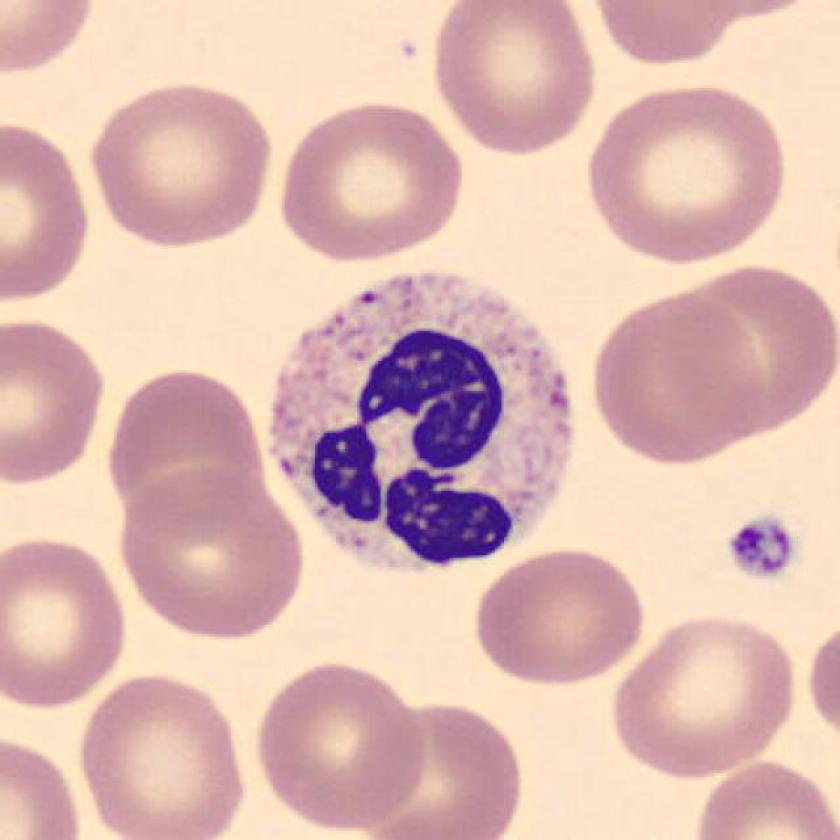neutrophil: (269, 276, 573, 574)
